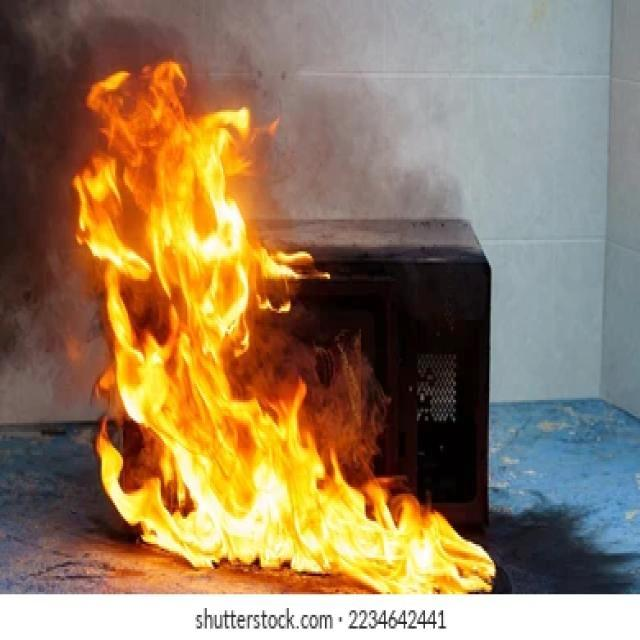fire: (74, 32, 356, 572), (341, 488, 493, 594)
